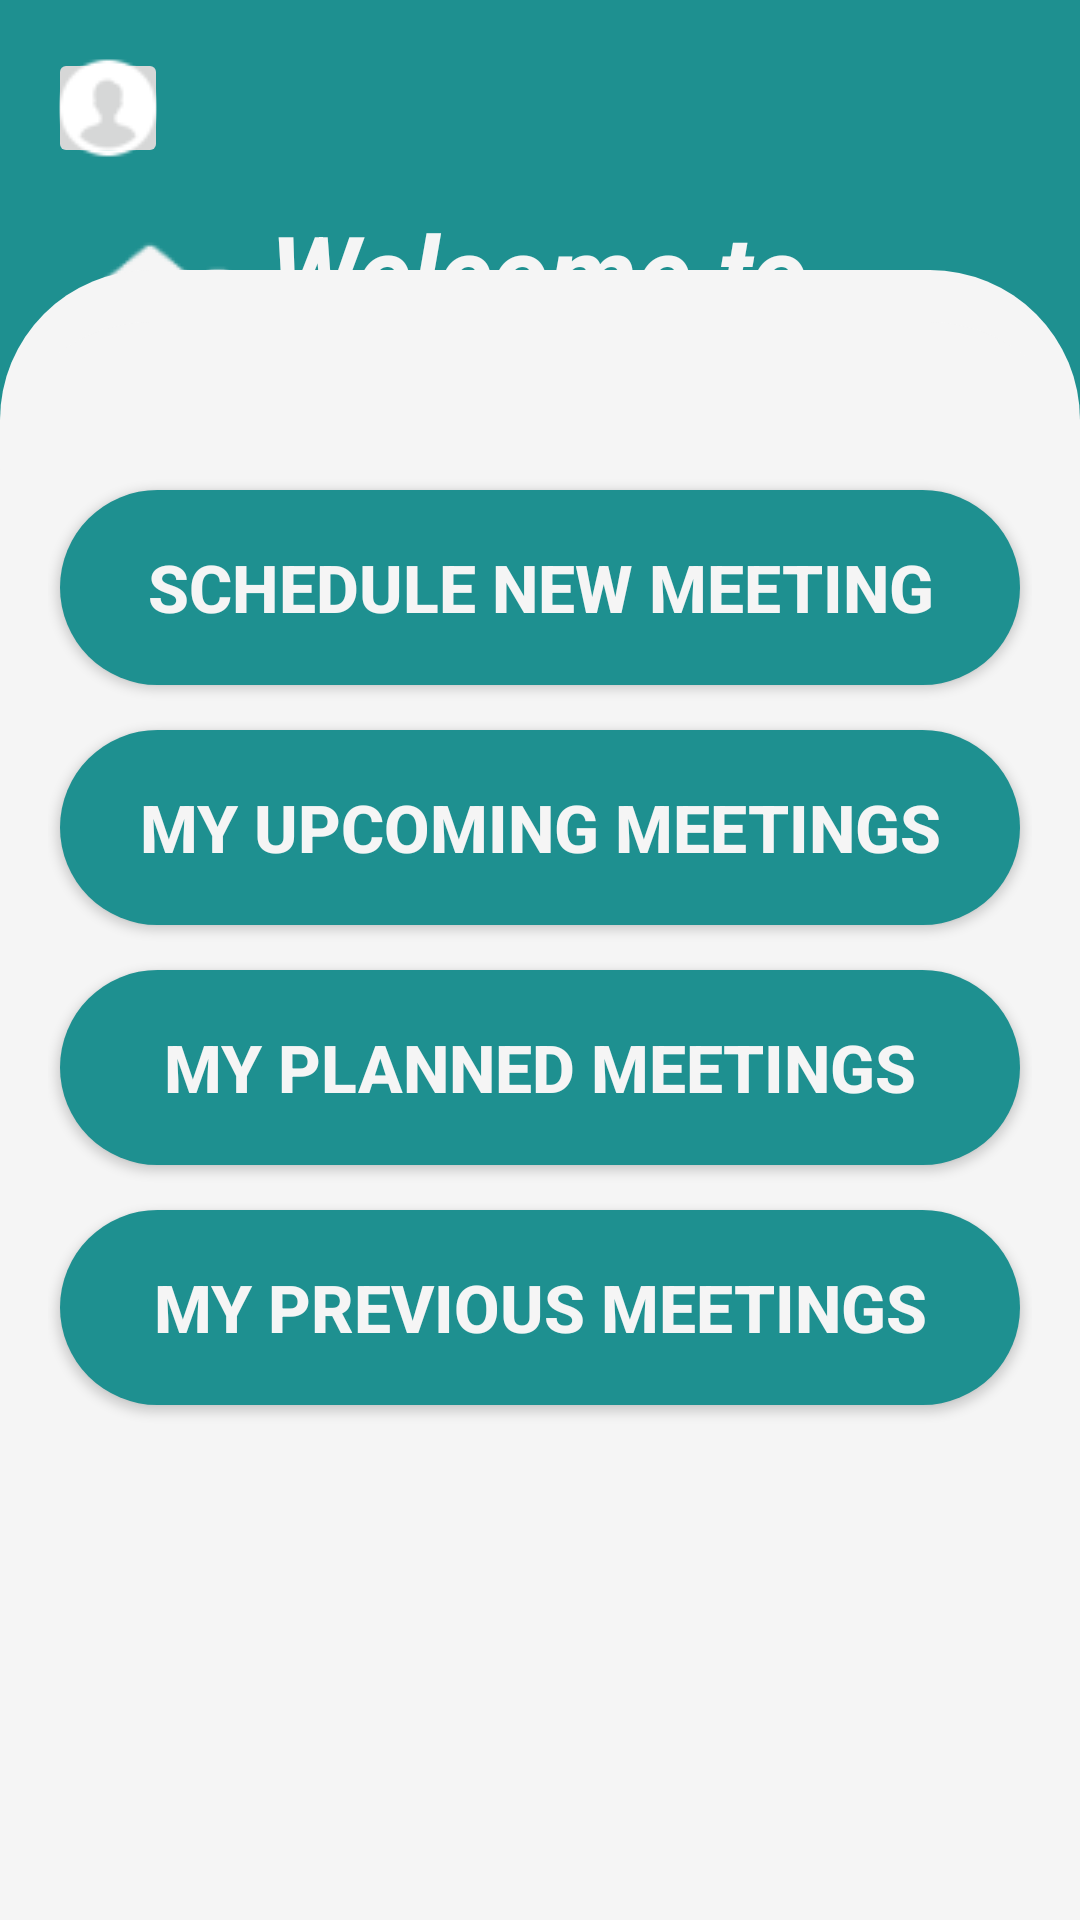

Named icons in this screenshot (1080px×1920px) and their centers, (x,y):
male user: (108,108)
